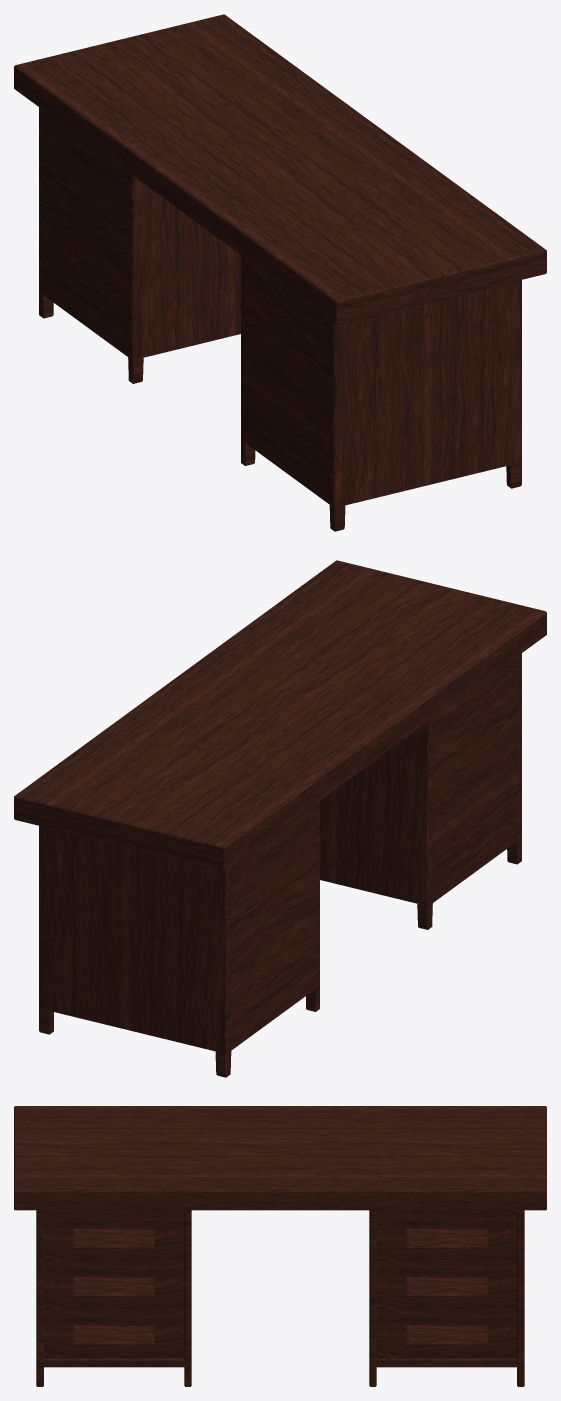
The model's file is Desk.gltf.
3 views of the same model, one above another, from view 1: azimuth 30°, elevation 25°; view 2: azimuth 150°, elevation 25°; view 3: azimuth 270°, elevation 25° (orthographic). The views are drawn at different scales.
Visible parts, largest first — view 1: Cube; view 2: Cube; view 3: Cube, Cube.001, Cube.002, Cube.005, Cube.006, Cube.003, Cube.004.
Boxes of the visible parts, x1,y1,x2,y2 form: Cube: (14,14,546,531); Cube: (14,560,546,1077); Cube: (14,1106,546,1386); Cube.001: (44,1310,184,1358); Cube.002: (44,1262,184,1310); Cube.005: (376,1262,516,1310); Cube.006: (376,1310,516,1358); Cube.003: (44,1213,184,1261); Cube.004: (376,1213,516,1261).
Size of the model in its own units: 2.36 by 2.6 by 6.24.
Materials: 2 (2 with a texture image).
